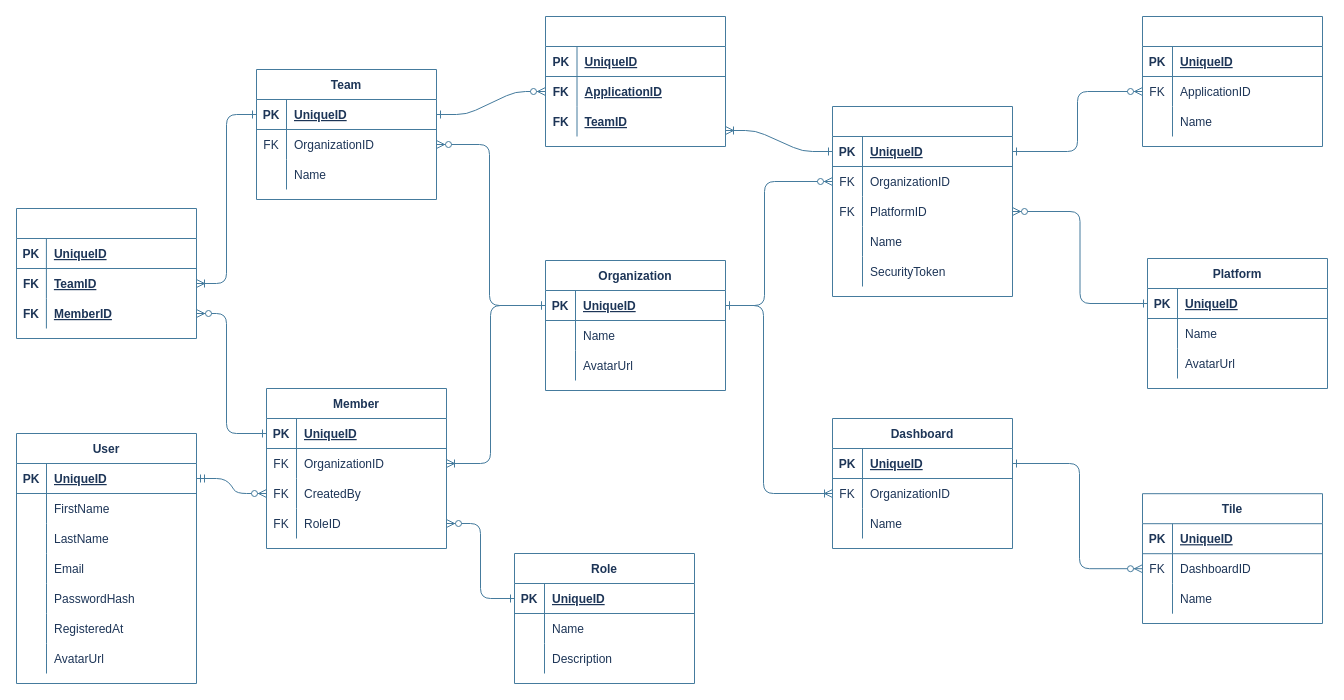
Some shapes in this 1344 by 700 pixel diagram are drawn without their labels. Each missing label, with the box of its shape:
Application: (832, 106, 1012, 296)
ApplicationTeam: (544, 16, 726, 146)
Environment: (1142, 16, 1322, 146)
TeamMember: (16, 208, 196, 338)
